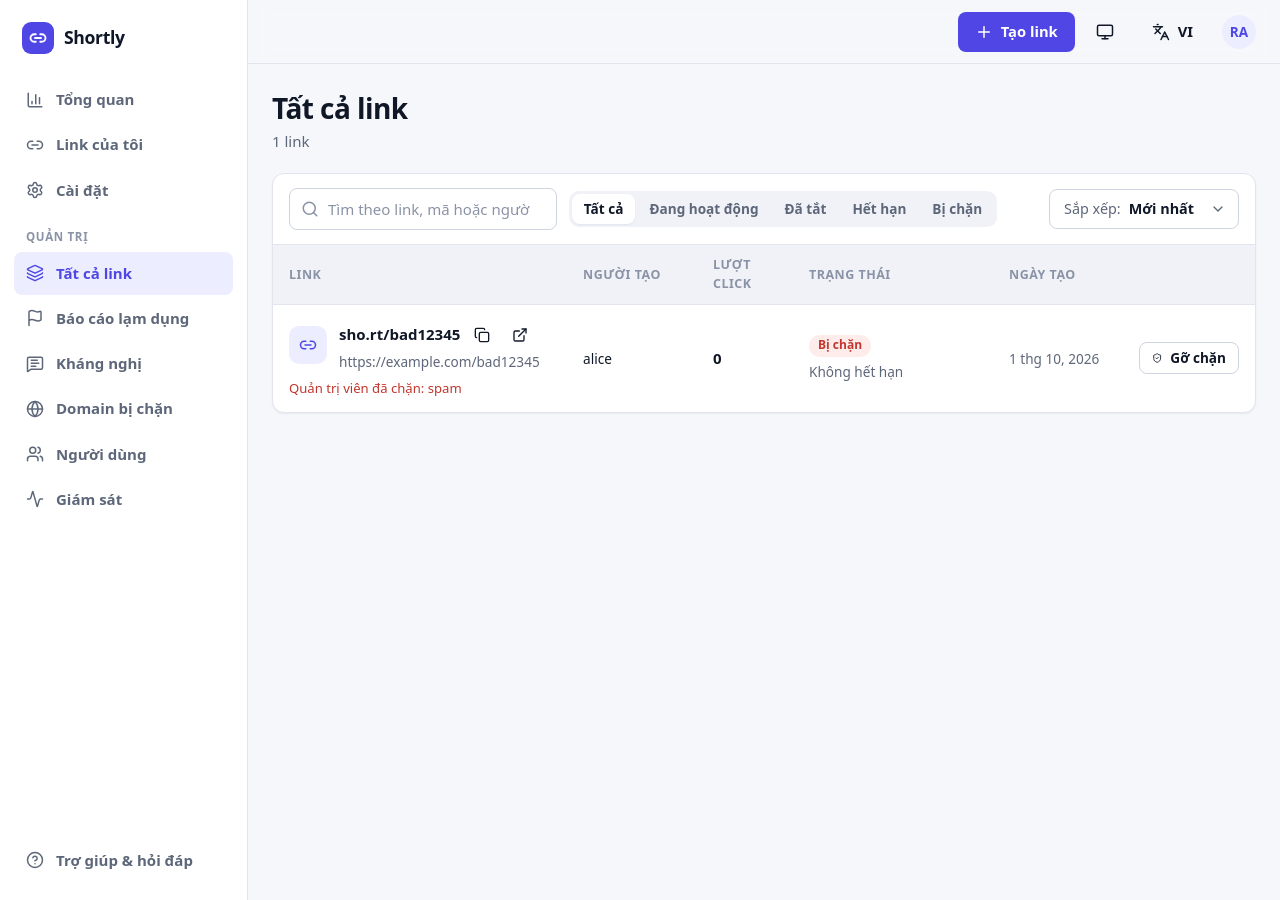
Test: quản trị: tất cả link › gỡ chặn link: xác nhận rồi gửi PUT unblock
Check: the text "https://example.com/bad12345" is shown, box [339,350,540,372]
Click the button with aria-label "Gỡ chặn bad12345".
click(1189, 358)  # box [1139,342,1239,374]
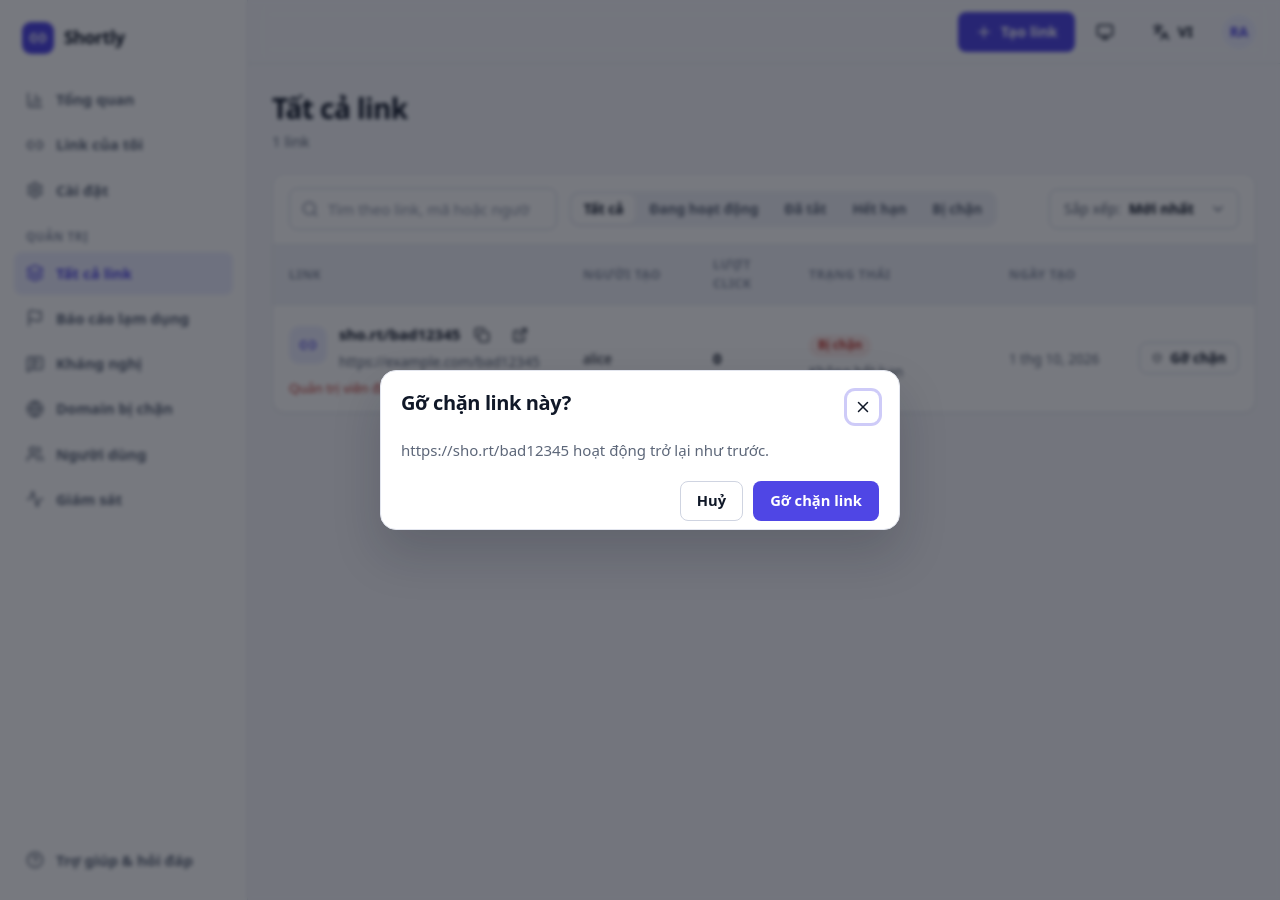
Click the button "Gỡ chặn link".
click(816, 501)  # box [753,481,879,521]
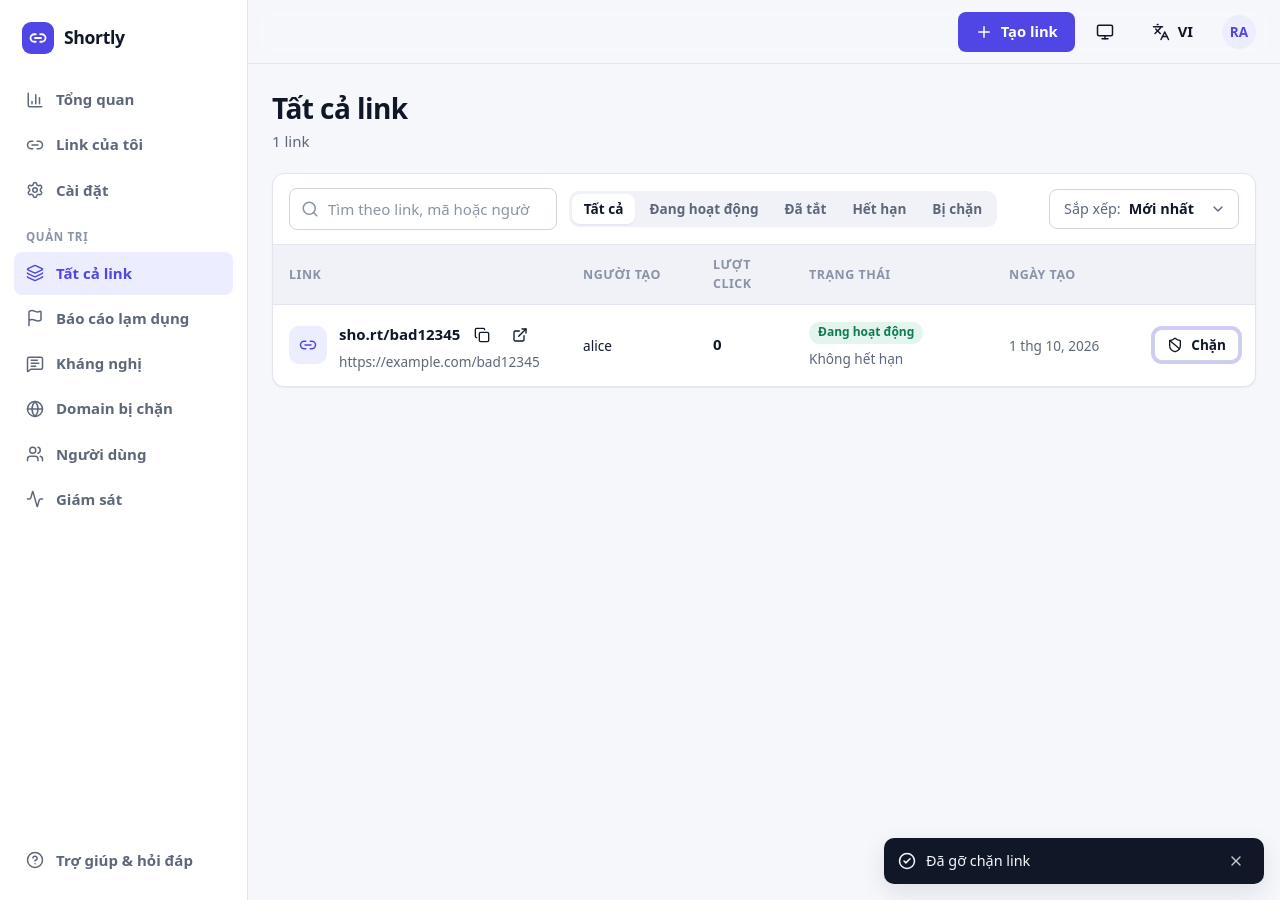
Check: the button with aria-label "Chặn bad12345" is shown, box [1154,329,1239,361]
Check: the text "Quản trị viên đã chặn" is gone
